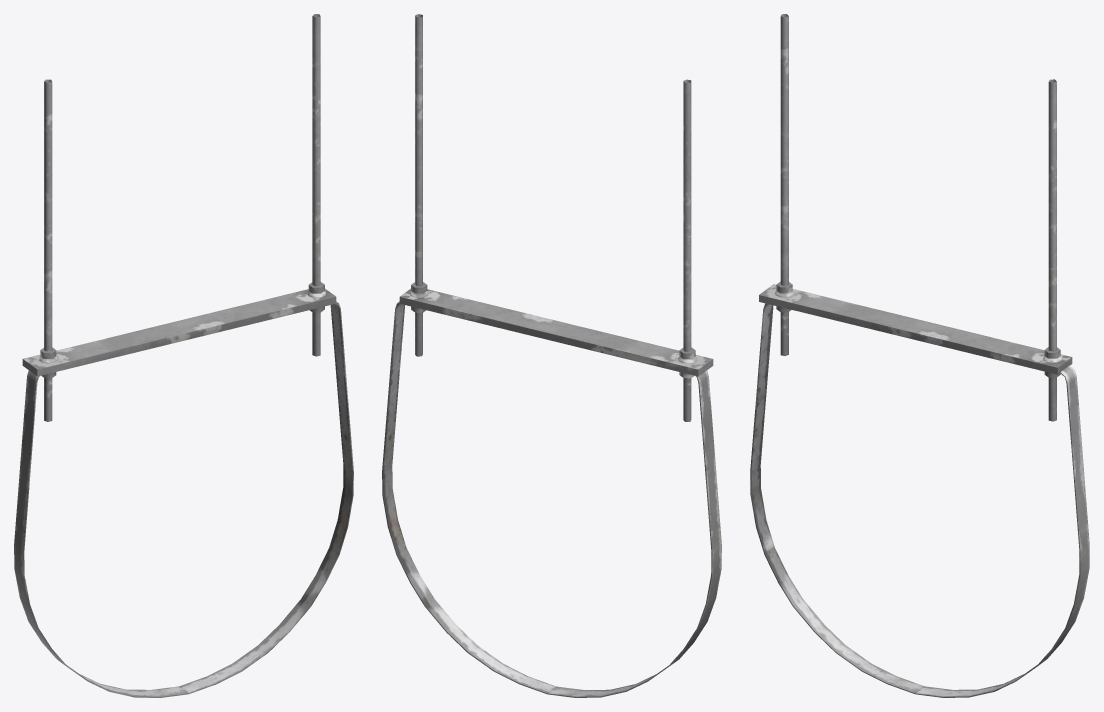
The model's file is SM_Air_Vent_01c.glb.
3 renders of one model, left to right at view 1: azimuth 30°, elevation 25°; view 2: azimuth 150°, elevation 25°; view 3: azimuth 330°, elevation 25°, orthographic.
Parts seen in each view (by area): view 1: SM_Air_Vent_01c; view 2: SM_Air_Vent_01c; view 3: SM_Air_Vent_01c.
Boxes of the visible parts, x1,y1,x2,y2 form: SM_Air_Vent_01c: [14, 14, 353, 697]; SM_Air_Vent_01c: [382, 14, 721, 697]; SM_Air_Vent_01c: [750, 14, 1089, 697].
Size of the model in its own units: 0.6007 by 1.12 by 0.0464.
Materials: 1 (1 with a texture image).
